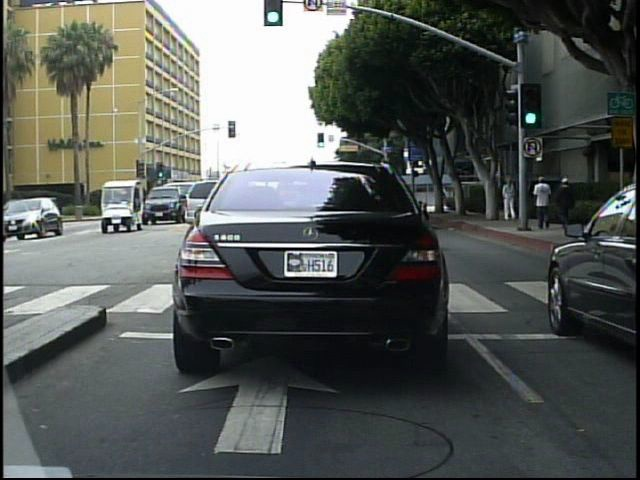person: (557, 171, 581, 239), (532, 174, 554, 232), (501, 177, 519, 225), (437, 182, 451, 216)
